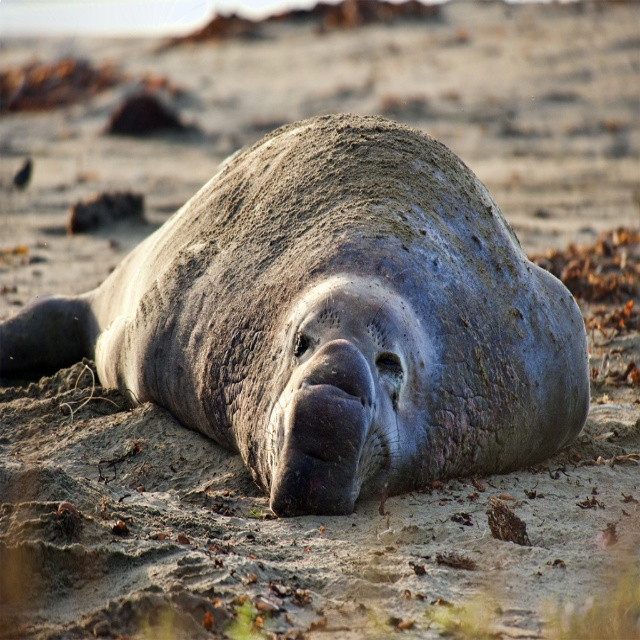Harbor seal: (0, 112, 590, 518)
